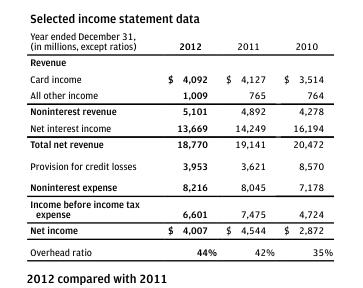table: (29, 29, 332, 257)
table column: (29, 29, 152, 257), (152, 29, 220, 257), (220, 29, 278, 257), (278, 29, 332, 257)
table column header: (29, 29, 332, 53)
table projected row header: (29, 53, 332, 69)
table row: (29, 194, 332, 221), (29, 29, 332, 53), (29, 154, 332, 175), (29, 135, 332, 154), (29, 175, 332, 194), (29, 221, 332, 240), (29, 69, 332, 86), (29, 102, 332, 119), (29, 240, 332, 257), (29, 53, 332, 69), (29, 86, 332, 102), (29, 119, 332, 135)
